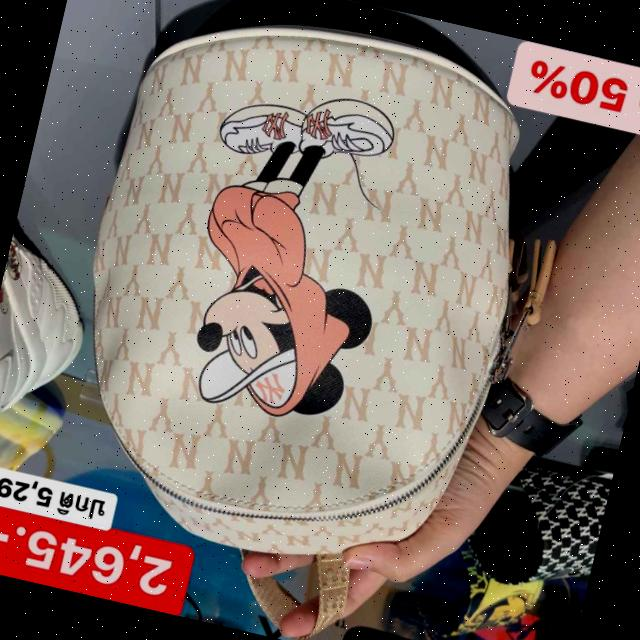Handbag: (46, 0, 581, 612)
